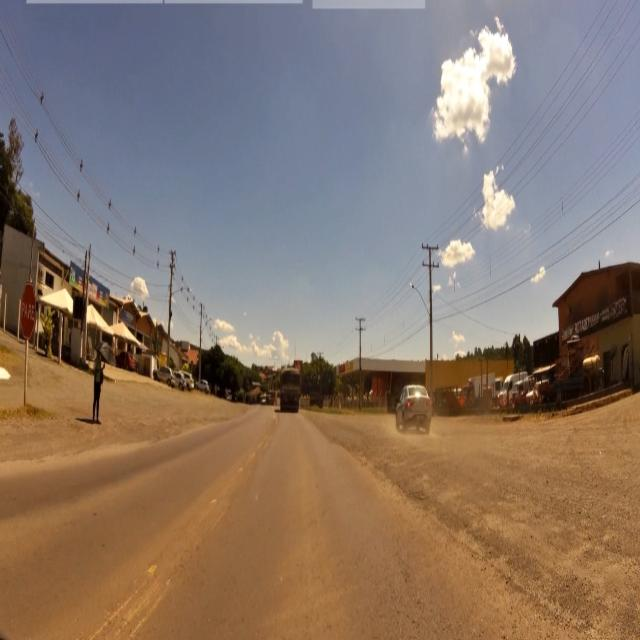R-1: (21, 282, 36, 341)
